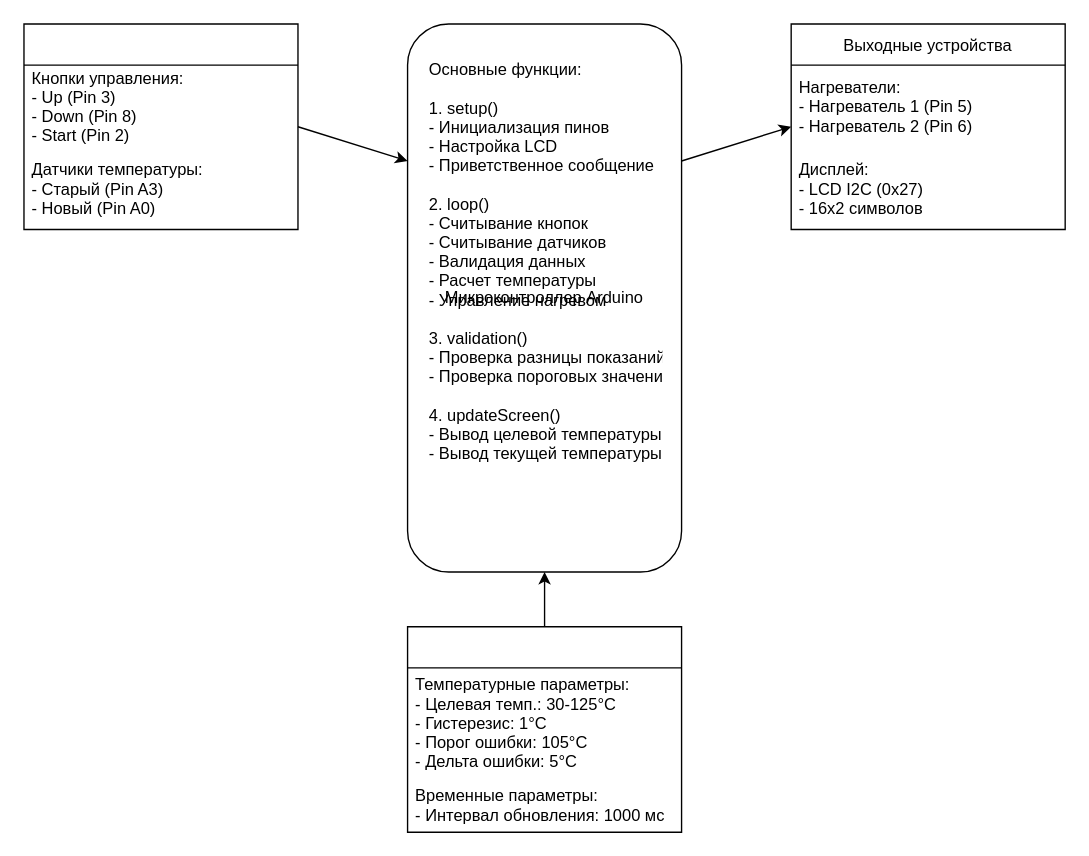
Some shapes in this 1089 by 856 pixel diagram are drawn without their labels. The shapes that lost their labels are listed below. From the top down, each one's box as (x1, y1, x2, y2) in pixels, then its label:
(23, 23, 298, 229): Входные устройства
(406, 625, 682, 832): Параметры системы
